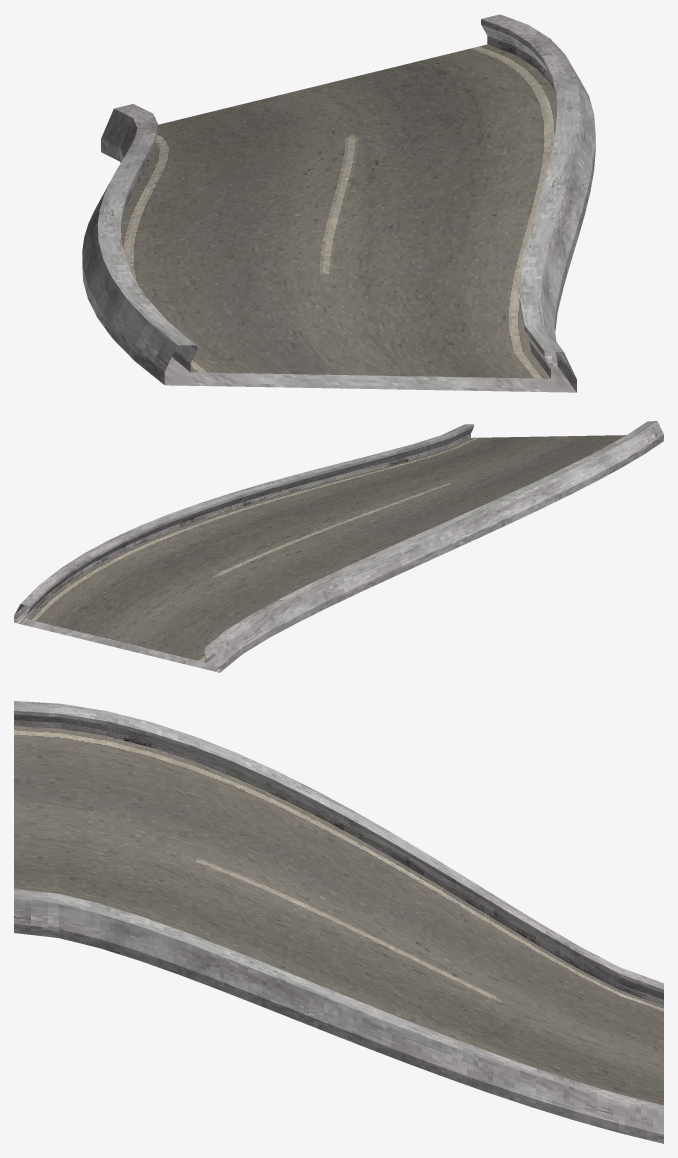
Rendered from road-Chicane-HalfBankedRight-BiSlopeDown-Down1-Right1-Size2.glb.
The picture shows the model from 3 angles, top to bottom: view 1: azimuth 30°, elevation 25°; view 2: azimuth 150°, elevation 25°; view 3: azimuth 270°, elevation 25°; orthographic projection. The views are drawn at different scales.
Parts seen in each view (by area): view 1: road-Chicane-HalfBankedRight-BiSlopeDown-Down1-Right1-Size2; view 2: road-Chicane-HalfBankedRight-BiSlopeDown-Down1-Right1-Size2; view 3: road-Chicane-HalfBankedRight-BiSlopeDown-Down1-Right1-Size2.
Boxes of the visible parts, <box> form: road-Chicane-HalfBankedRight-BiSlopeDown-Down1-Right1-Size2: <box>82,14,595,392</box>; road-Chicane-HalfBankedRight-BiSlopeDown-Down1-Right1-Size2: <box>14,421,663,672</box>; road-Chicane-HalfBankedRight-BiSlopeDown-Down1-Right1-Size2: <box>14,701,663,1143</box>.
Size of the model in its own units: 2 by 0.5859 by 2.
2 materials, 2 textured.
